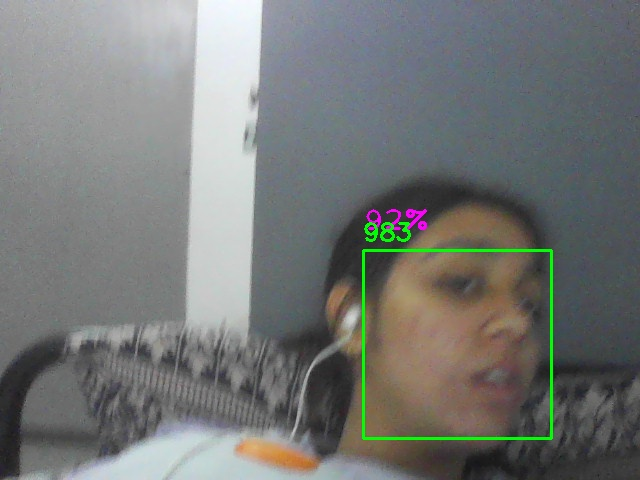real: (363, 250, 552, 439)
